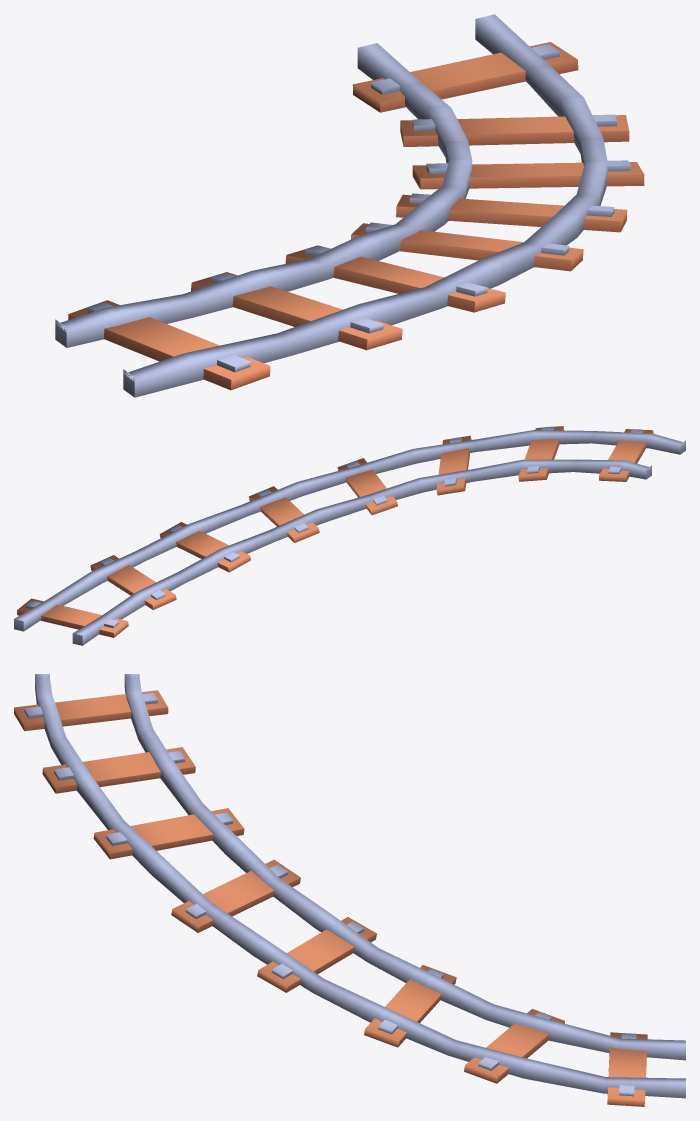
File: railroad-damaged-corner-large-ramp.glb
The picture shows the model from 3 angles, top to bottom: view 1: azimuth 30°, elevation 25°; view 2: azimuth 150°, elevation 25°; view 3: azimuth 270°, elevation 25°; orthographic projection. The views are drawn at different scales.
Visible parts, largest first — view 1: railroad-damaged-corner-large-ramp; view 2: railroad-damaged-corner-large-ramp; view 3: railroad-damaged-corner-large-ramp.
Boxes of the visible parts, left/top/right/bottom form: railroad-damaged-corner-large-ramp: left=55, top=14, right=644, bottom=397; railroad-damaged-corner-large-ramp: left=14, top=426, right=685, bottom=645; railroad-damaged-corner-large-ramp: left=14, top=674, right=685, bottom=1106.
Bounding box in the file's own units: 4.48 × 1.1 × 4.49.
1 material, 1 textured.
